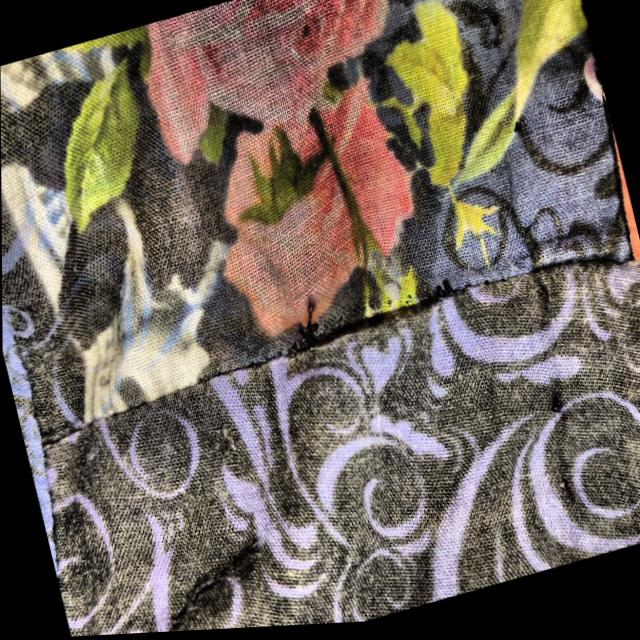seam: (216, 247, 479, 445)
